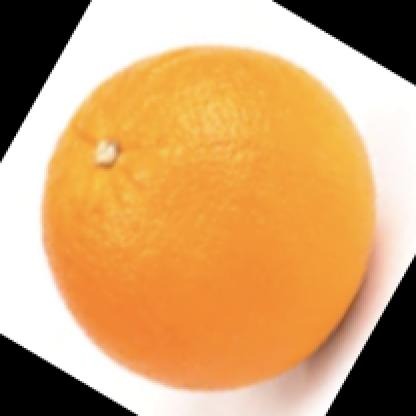fresh: (40, 42, 378, 391)
